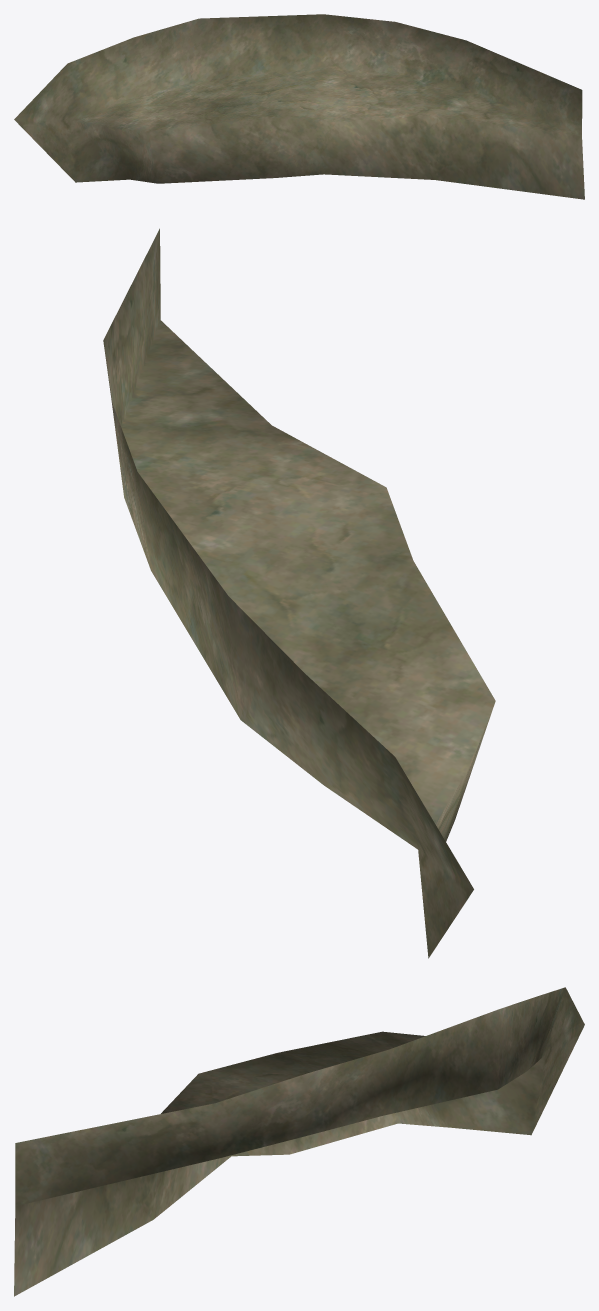
File: EKH_GROTTO_PS_GR_LEDGE_83736.fbx
3 views of the same model, one above another, from view 1: azimuth 30°, elevation 25°; view 2: azimuth 150°, elevation 25°; view 3: azimuth 270°, elevation 25° (orthographic). The views are drawn at different scales.
Parts seen in each view (by area): view 1: EKH_GROTTO_PS_GR_LEDGE_83736; view 2: EKH_GROTTO_PS_GR_LEDGE_83736; view 3: EKH_GROTTO_PS_GR_LEDGE_83736.
Part boxes in pixels (<box>): EKH_GROTTO_PS_GR_LEDGE_83736: <box>14,14,584,199</box>; EKH_GROTTO_PS_GR_LEDGE_83736: <box>103,228,495,958</box>; EKH_GROTTO_PS_GR_LEDGE_83736: <box>14,987,584,1296</box>.
Size of the model in its own units: 33913 by 14342 by 33183.
Materials: 1 (1 with a texture image).
